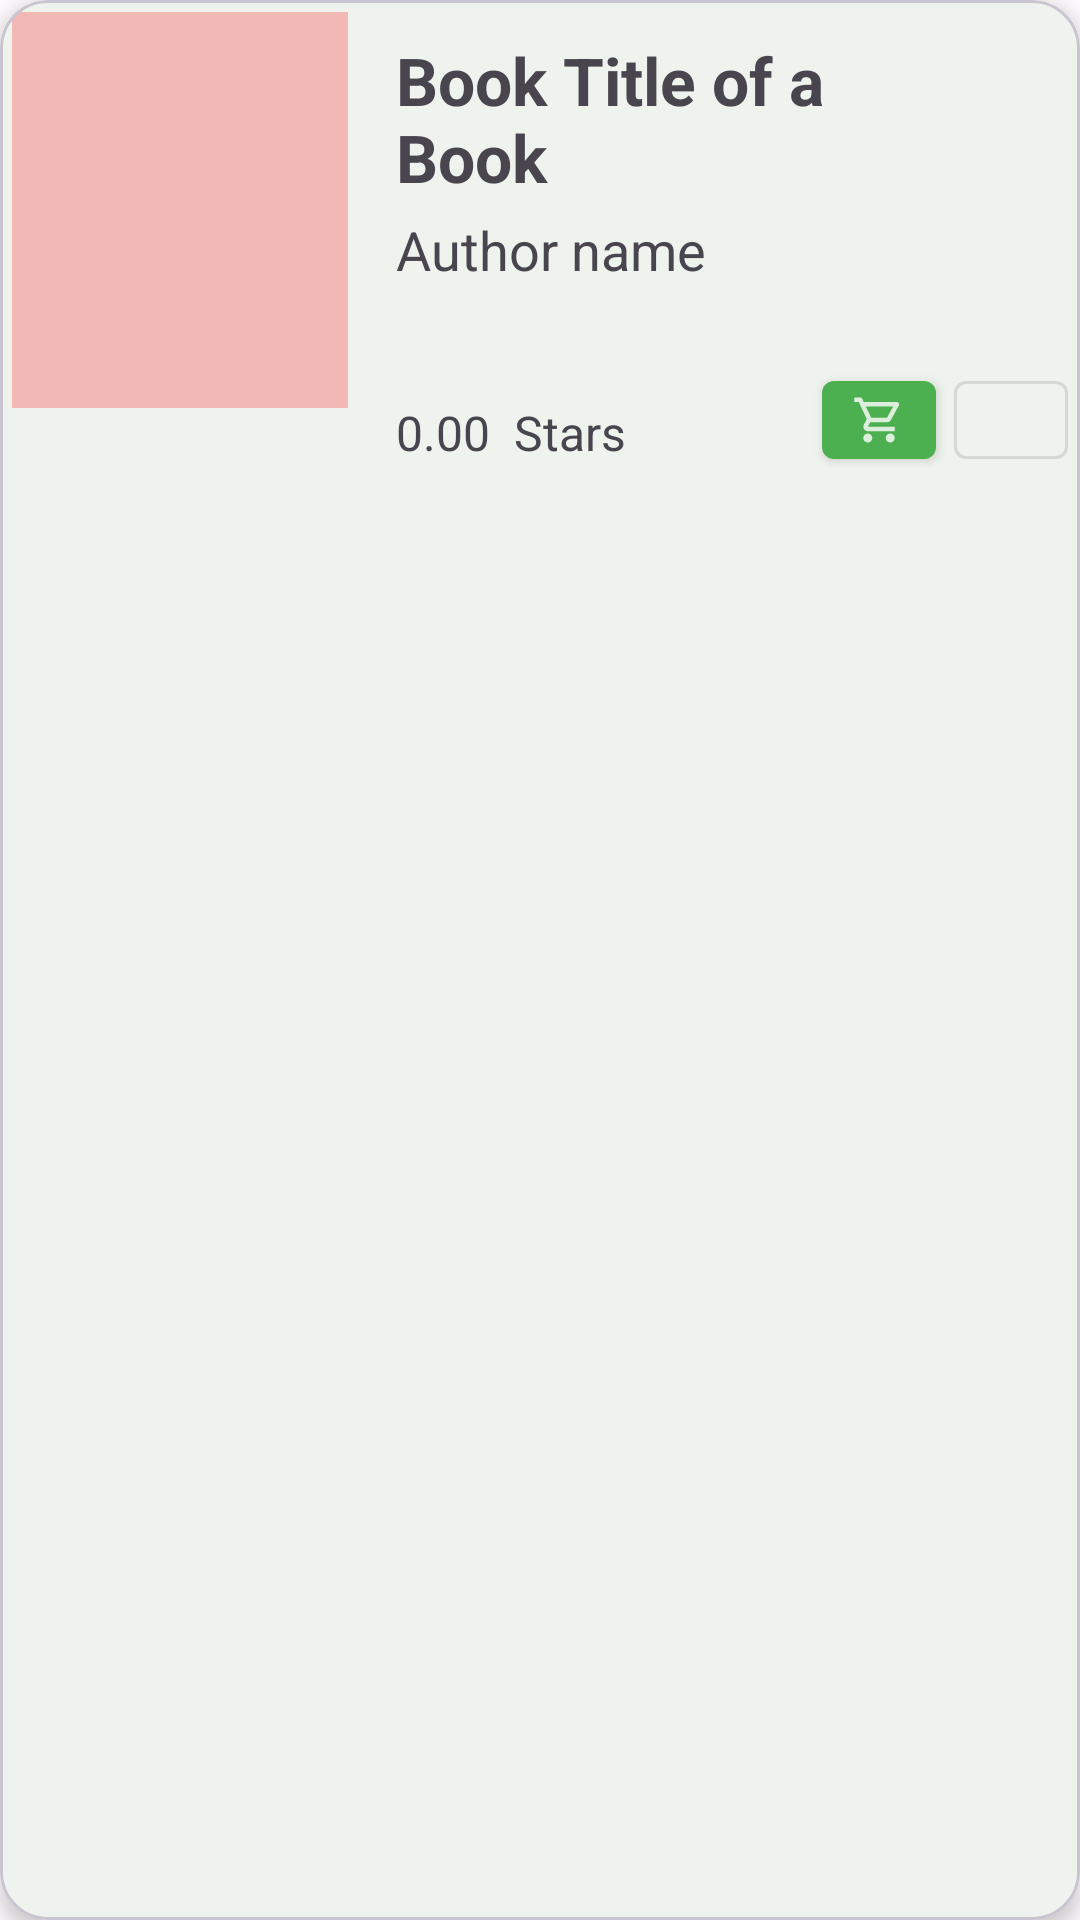

Icon bounding boxes for this 1080px x 1920px phone screenshot, format (x1, y1, x2, y2):
shopping cart: (822, 381, 936, 459)
